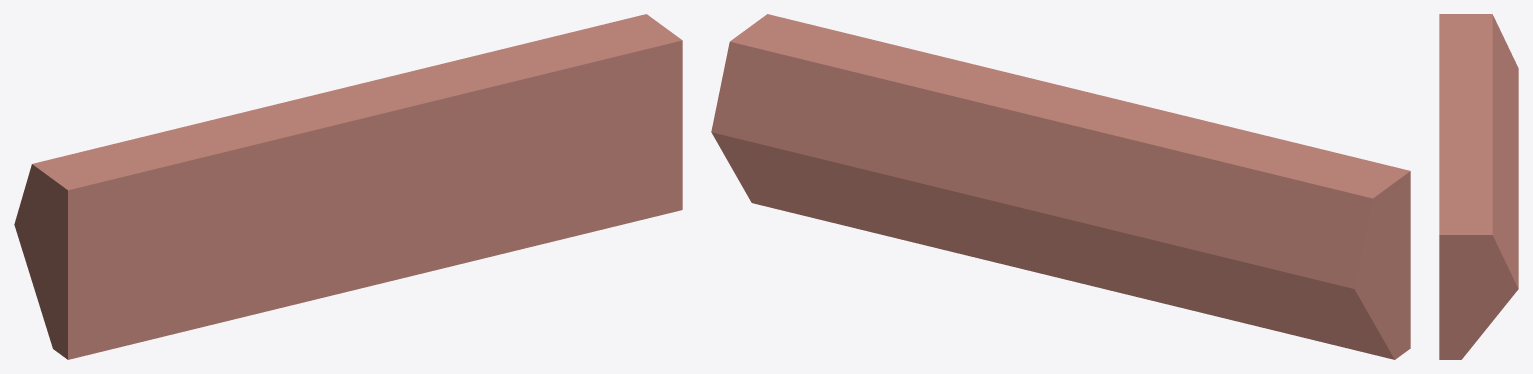
File: CornerTrim02.fbx
3 renders of one model, left to right at view 1: azimuth 30°, elevation 25°; view 2: azimuth 150°, elevation 25°; view 3: azimuth 270°, elevation 25°, orthographic. The views are drawn at different scales.
Parts seen in each view (by area): view 1: CornerTrim02.002; view 2: CornerTrim02.002; view 3: CornerTrim02.002.
Boxes of the visible parts, box(x1,y1,x2,y2) form: CornerTrim02.002: box(14, 14, 682, 359); CornerTrim02.002: box(711, 14, 1410, 359); CornerTrim02.002: box(1439, 14, 1518, 359).
Size of the model in its own units: 500 by 132 by 75.7.
